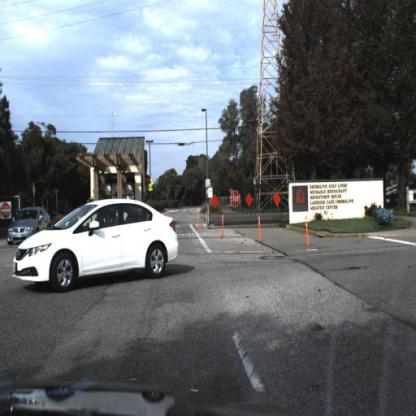car: (12, 194, 181, 293), (5, 204, 53, 246)
